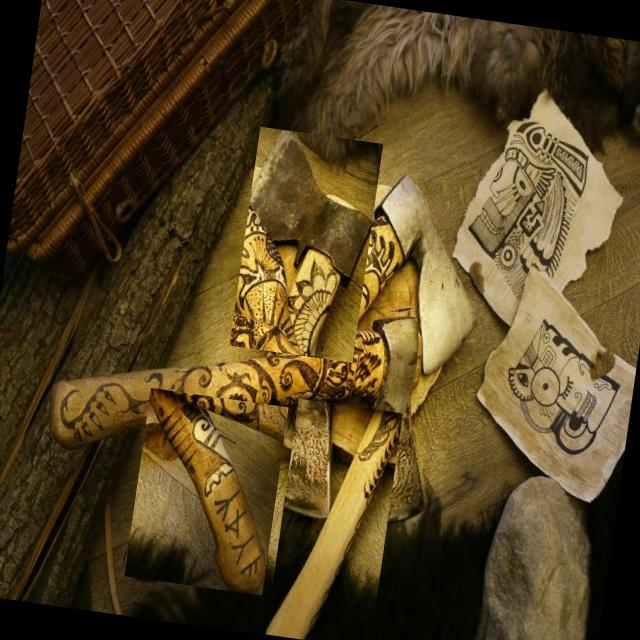Axe: (52, 320, 421, 523), (305, 177, 474, 373), (266, 410, 400, 640), (251, 131, 372, 358), (150, 389, 266, 594)
